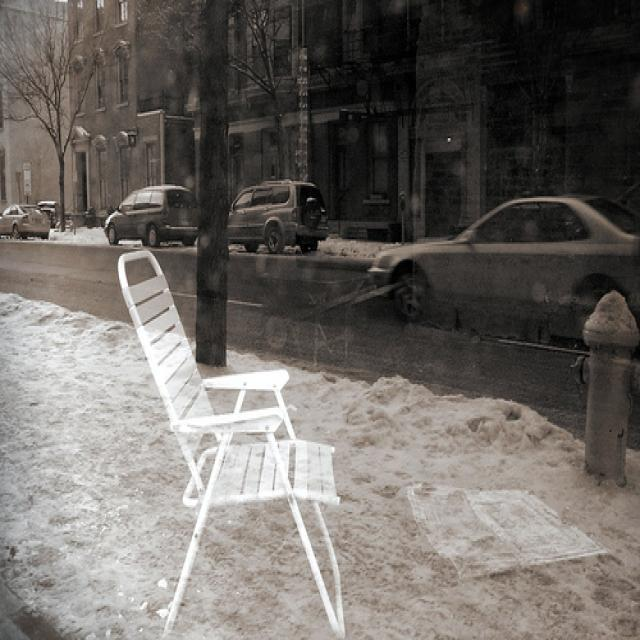fire_hydrant: (569, 288, 640, 488)
